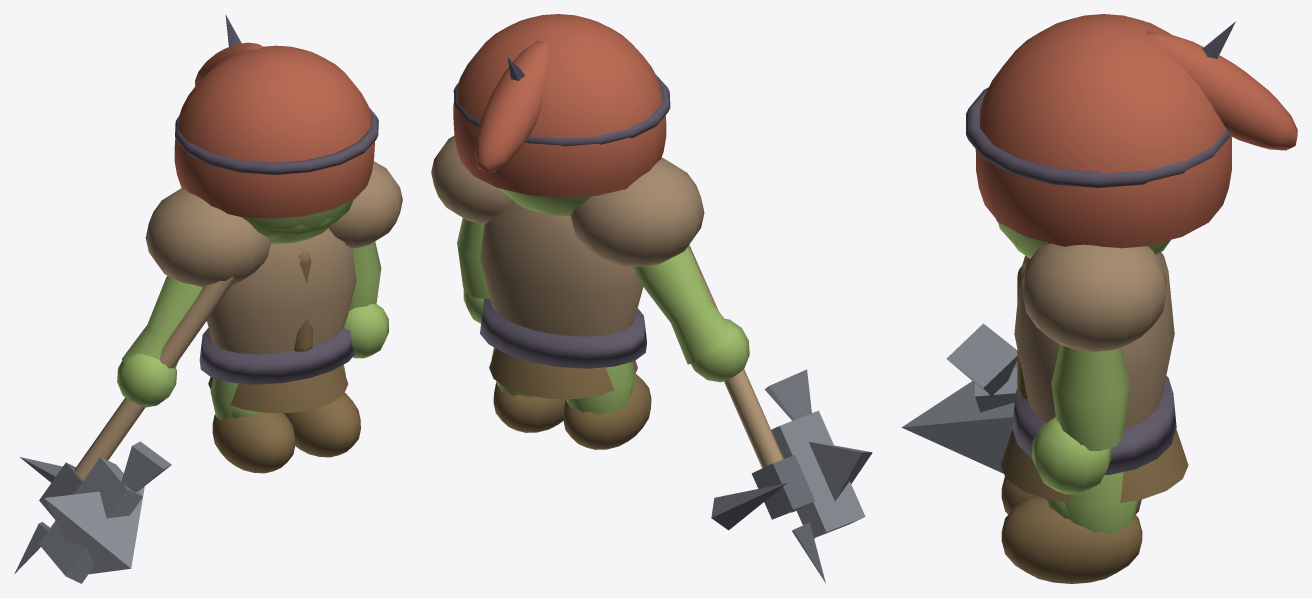
File: cinder_warrior.glb
The picture shows the model from 3 angles, left to right: view 1: azimuth 30°, elevation 25°; view 2: azimuth 150°, elevation 25°; view 3: azimuth 270°, elevation 25°; orthographic projection. The views are drawn at different scales.
Bounding box in the file's own units: 3.09 × 3.67 × 2.11.
